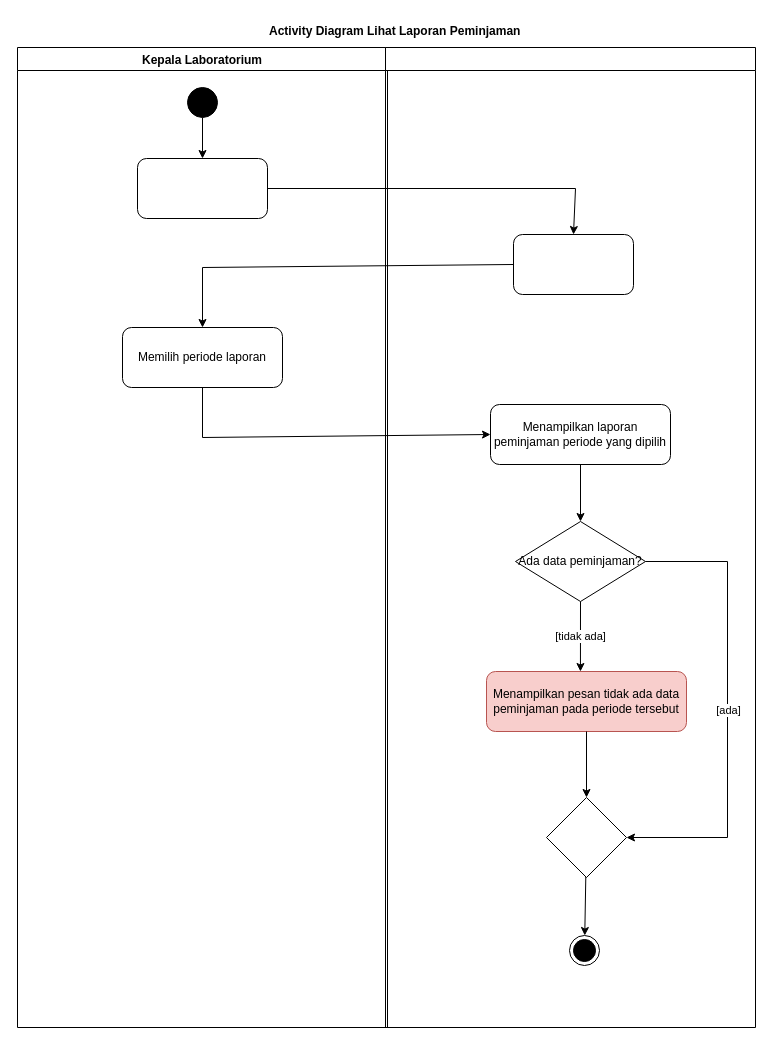
The diagram is 773 pixels wide and 1045 high, and some of its shapes have lost their labels. Here are the shapes that lost their labels. From the top down, the box of each, then its label:
(136, 158, 268, 218): Membuka fungsi Lihat Laporan Peminjaman
(512, 234, 634, 294): Menampilkan daftar periode laporan
(384, 46, 756, 1028): Sistem
